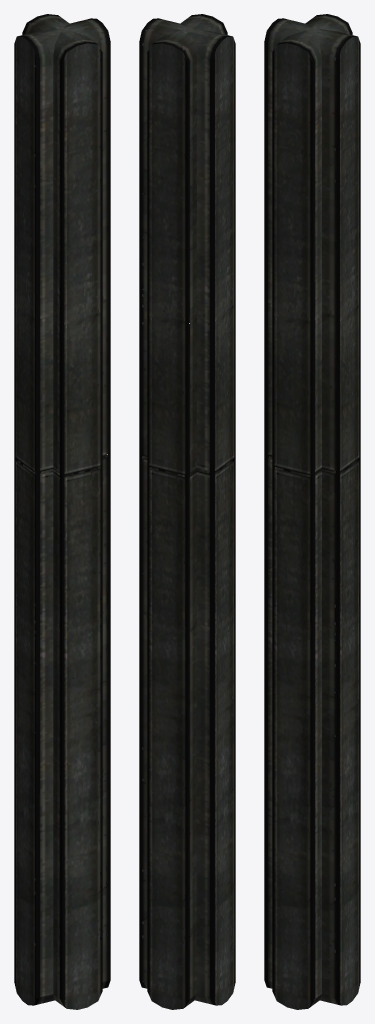
File: engineroom_floor_lip_railpost.dae
3 renders of one model, left to right at view 1: azimuth 30°, elevation 25°; view 2: azimuth 150°, elevation 25°; view 3: azimuth 330°, elevation 25°, orthographic.
Parts seen in each view (by area): view 1: floor_lip_railpost; view 2: floor_lip_railpost; view 3: floor_lip_railpost.
Part boxes in pixels (x1,y1,x2,y2): floor_lip_railpost: [14, 14, 110, 1009]; floor_lip_railpost: [139, 14, 235, 1009]; floor_lip_railpost: [264, 14, 360, 1009].
Size of the model in its own units: 27.64 by 342 by 25.78.
